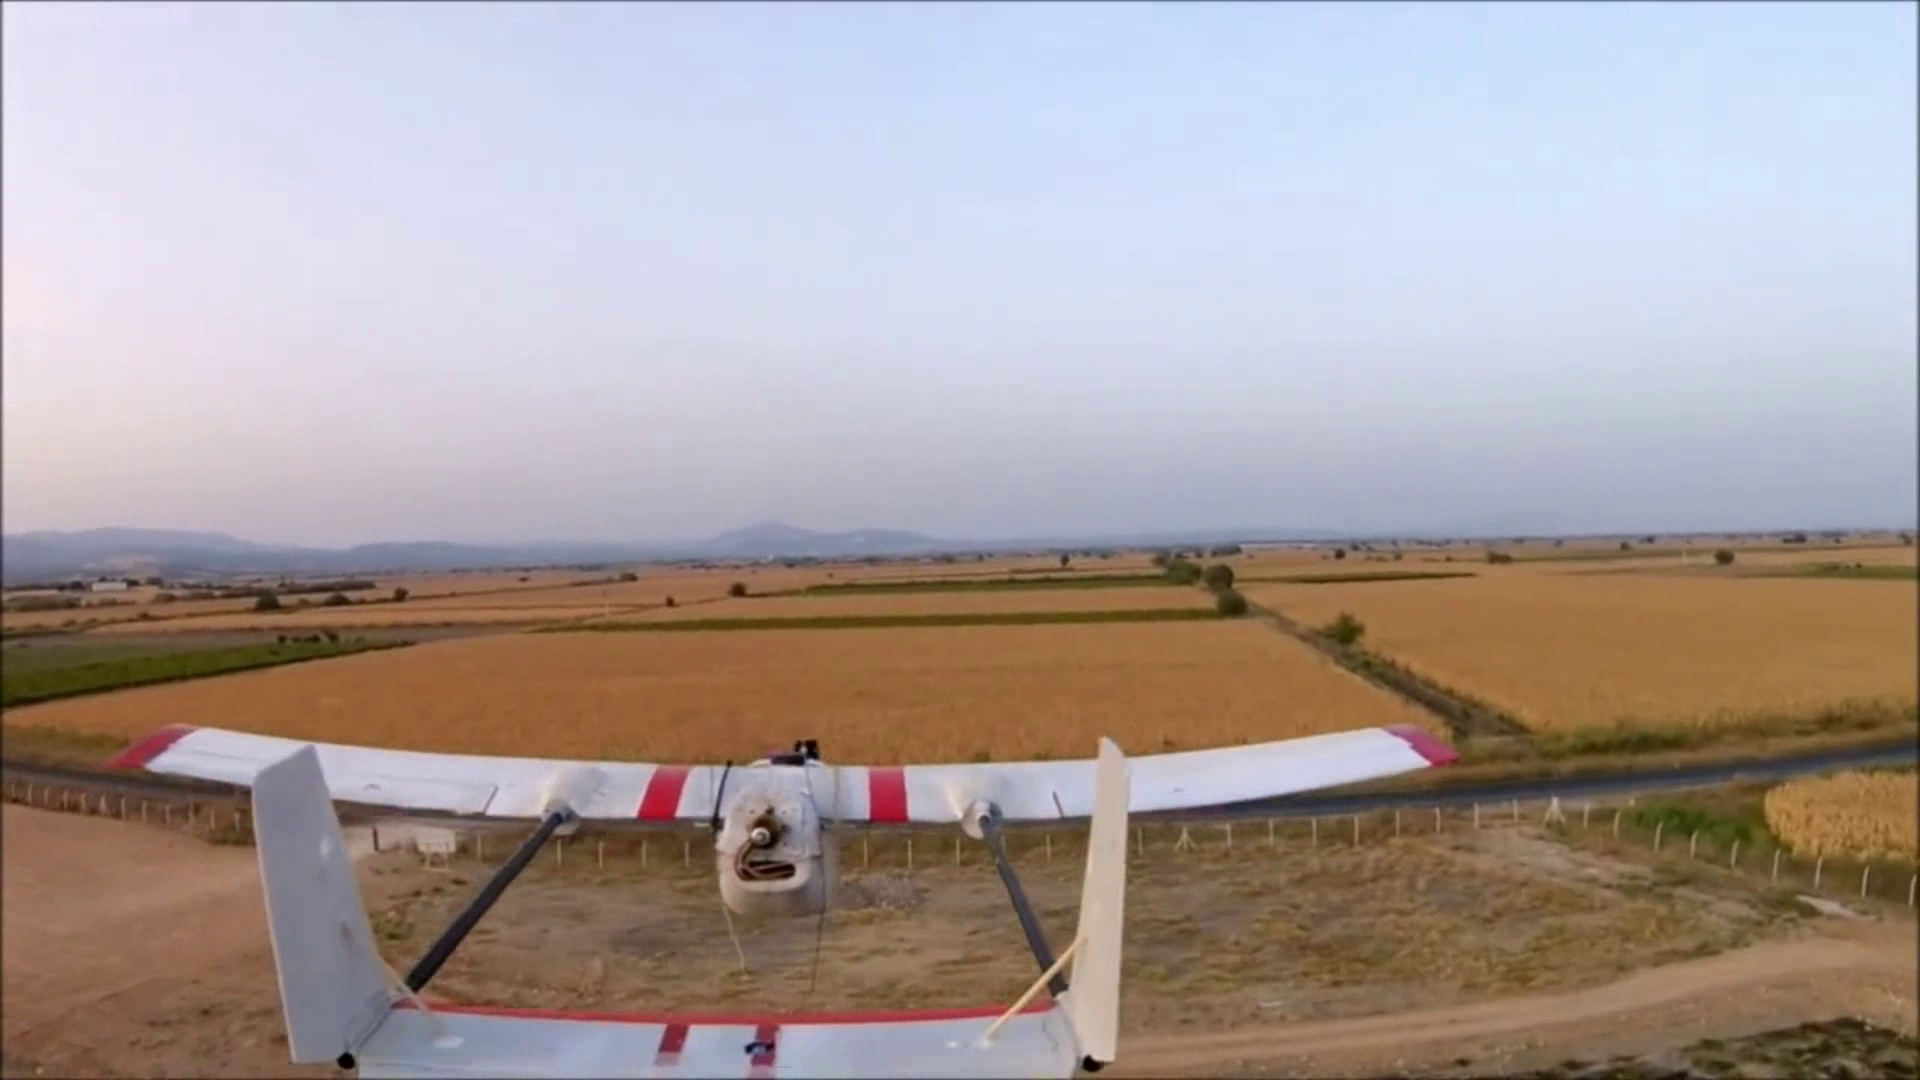airplane: (55, 720, 1447, 1067)
